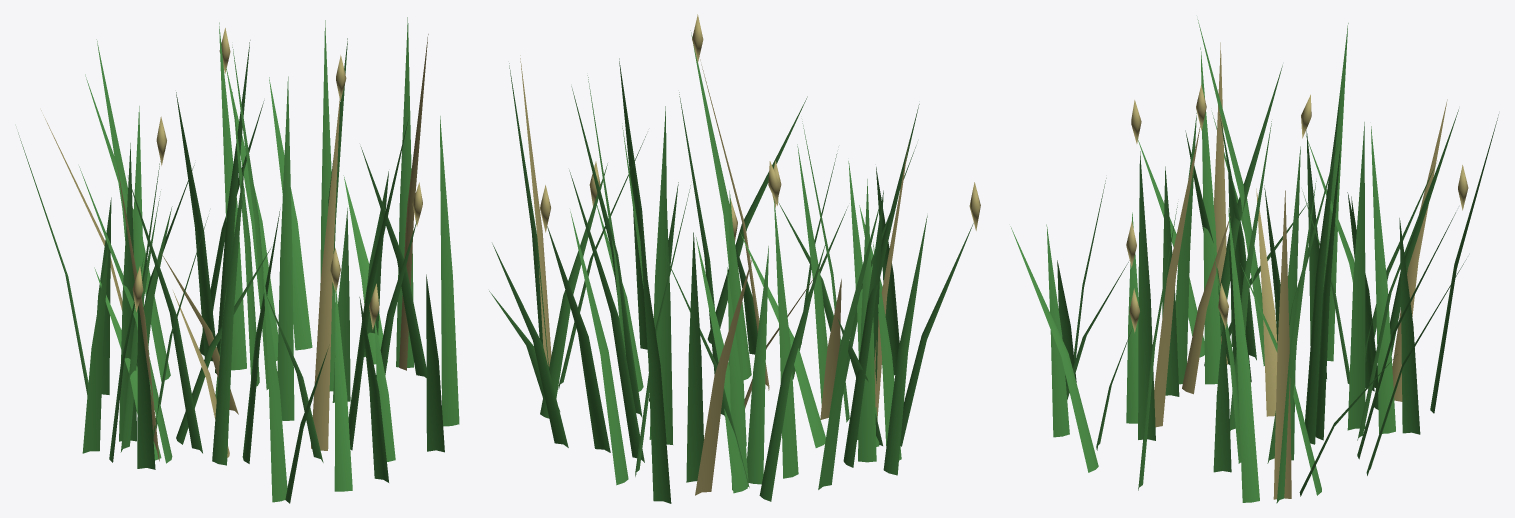
The model's file is grass_tuft.glb.
3 renders of one model, left to right at view 1: azimuth 30°, elevation 25°; view 2: azimuth 150°, elevation 25°; view 3: azimuth 270°, elevation 25°, orthographic. The views are drawn at different scales.
Visible parts, largest first — view 1: grass_tuft_blades, grass_tuft_dry_blades; view 2: grass_tuft_blades, grass_tuft_dry_blades; view 3: grass_tuft_blades, grass_tuft_dry_blades.
Part boxes in pixels (<box>): grass_tuft_blades: <box>18,17,459,503</box>; grass_tuft_dry_blades: <box>41,28,428,461</box>; grass_tuft_blades: <box>489,30,973,503</box>; grass_tuft_dry_blades: <box>520,14,980,495</box>; grass_tuft_blades: <box>1010,19,1498,503</box>; grass_tuft_dry_blades: <box>1126,42,1468,499</box>.
Size of the model in its own units: 0.608 by 0.5588 by 0.68.
